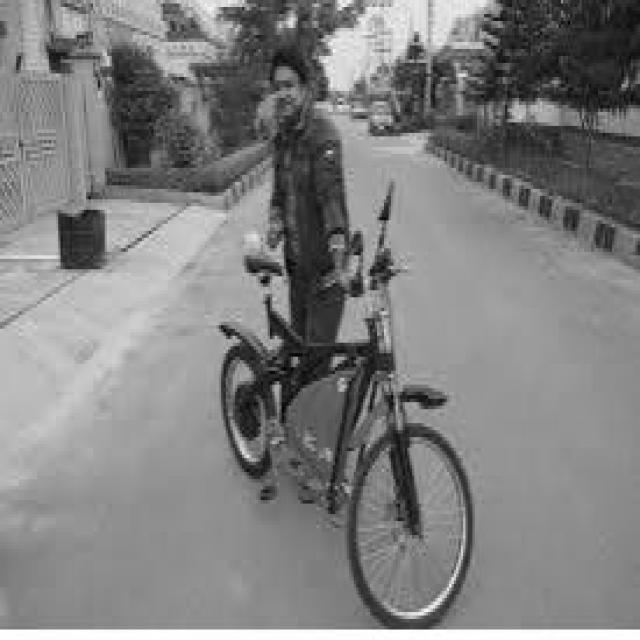bicycle: (217, 227, 472, 626)
